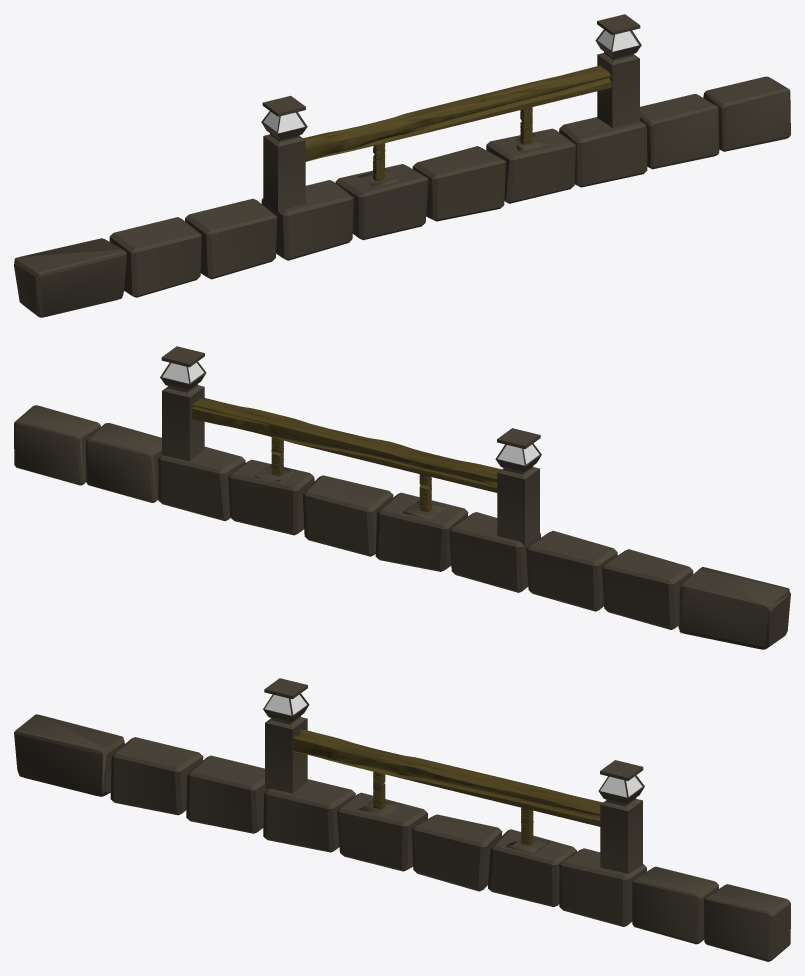
Rendered from desksDetails.fbx.
3 views of the same model, one above another, from view 1: azimuth 30°, elevation 25°; view 2: azimuth 150°, elevation 25°; view 3: azimuth 330°, elevation 25° (orthographic).
Parts seen in each view (by area): view 1: Cube.003; view 2: Cube.003; view 3: Cube.003.
Boxes of the visible parts, x1,y1,x2,y2 form: Cube.003: (14,14,790,317); Cube.003: (14,346,790,649); Cube.003: (14,678,790,961).
Bounding box in the file's own units: 1366 × 254 × 77.21.
